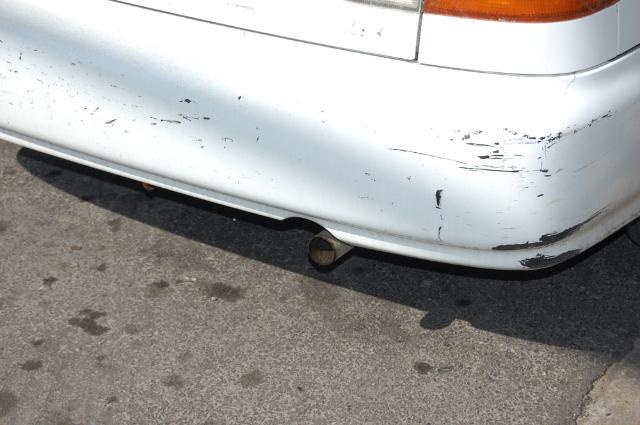scratch: (360, 108, 617, 269), (0, 33, 270, 148)
